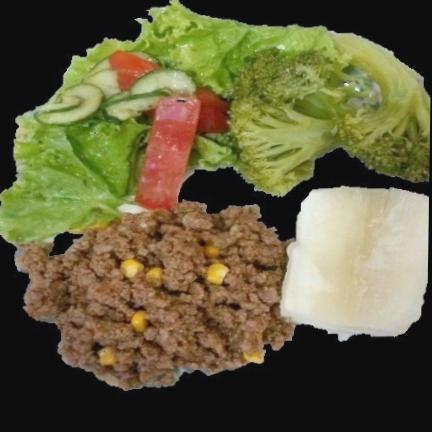broccoli: (229, 32, 430, 194)
cassava: (281, 187, 429, 340)
cucumber: (34, 69, 195, 124)
meat: (19, 202, 292, 389)
salad: (57, 0, 342, 95), (0, 109, 150, 244), (190, 138, 234, 168)
tomato: (135, 88, 227, 208), (110, 53, 158, 89)
